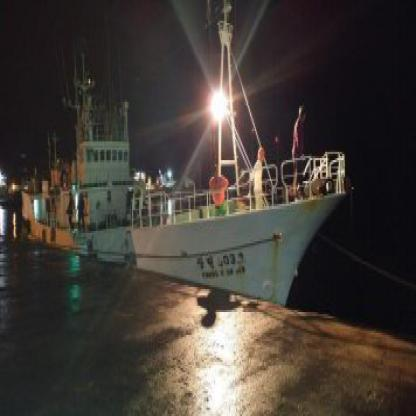Ship: (1, 1, 359, 324)
